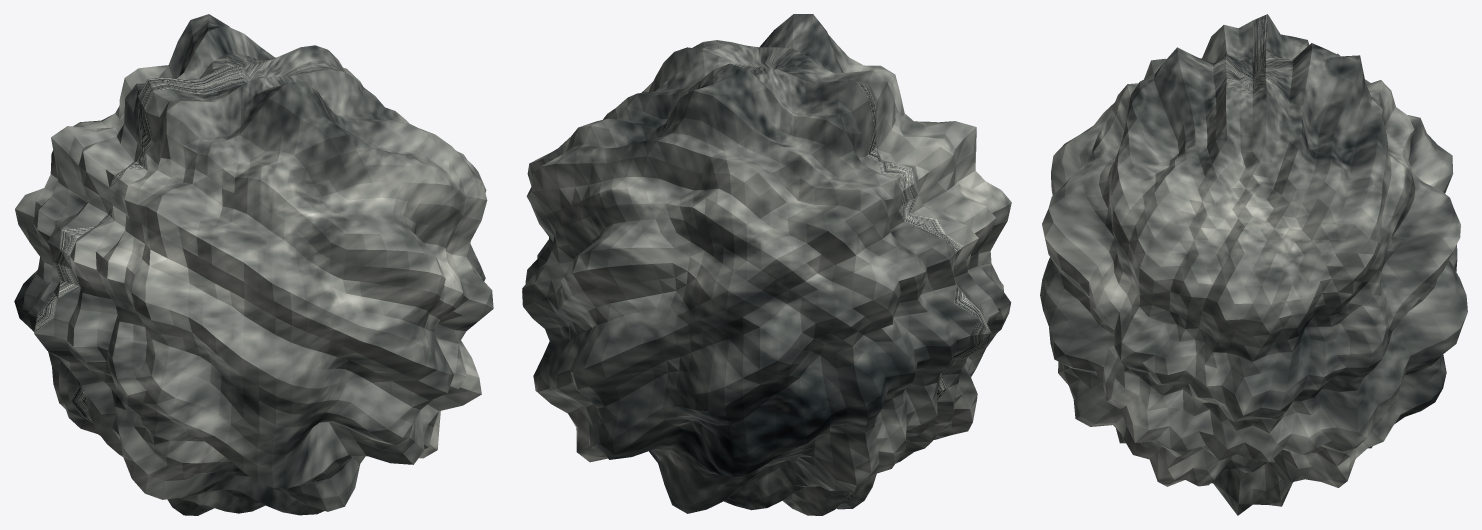
File: giant_04.glb
The picture shows the model from 3 angles, left to right: view 1: azimuth 30°, elevation 25°; view 2: azimuth 150°, elevation 25°; view 3: azimuth 270°, elevation 25°; orthographic projection. The views are drawn at different scales.
Visible parts, largest first — view 1: rock; view 2: rock; view 3: rock.
Boxes of the visible parts, bbox=[...] form: rock: bbox=[14, 14, 493, 515]; rock: bbox=[522, 14, 1011, 515]; rock: bbox=[1040, 14, 1467, 515].
Size of the model in its own units: 31.05 by 30.66 by 27.4.
Materials: 1 (1 with a texture image).
